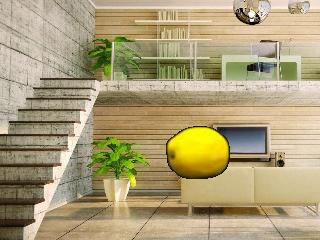lemon: (168, 127, 229, 179)
